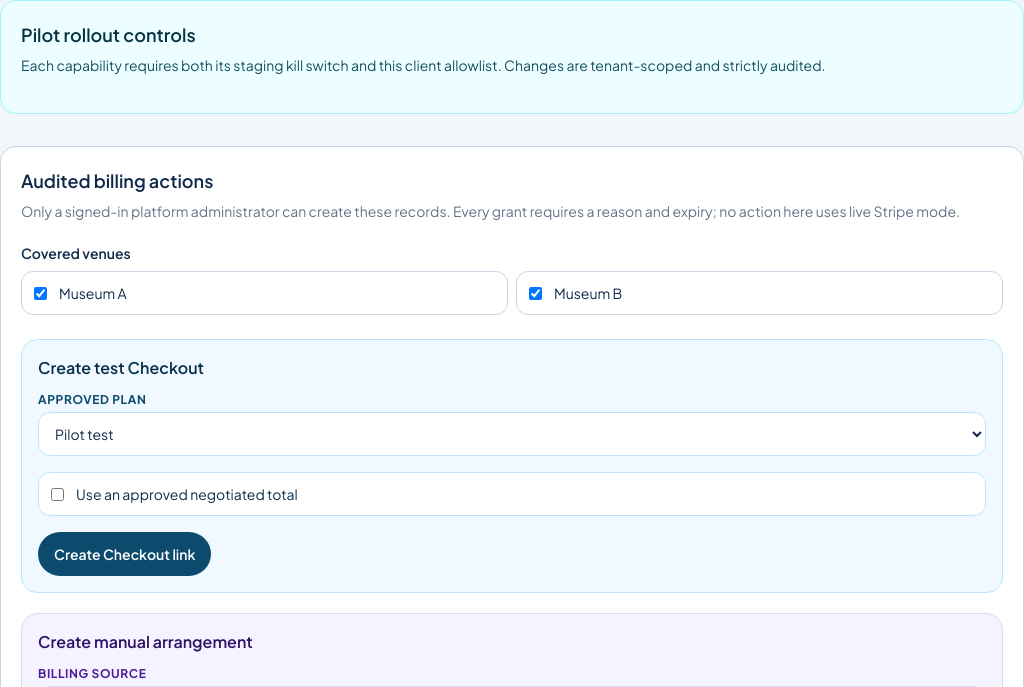
AdminBillingControls negotiated Checkout › keeps a multi-venue quote disabled until every component reconciles to the total
Step 1. Click the checkbox labelled "Use an approved negotiated total" → (58, 494), box [51,488,64,500]
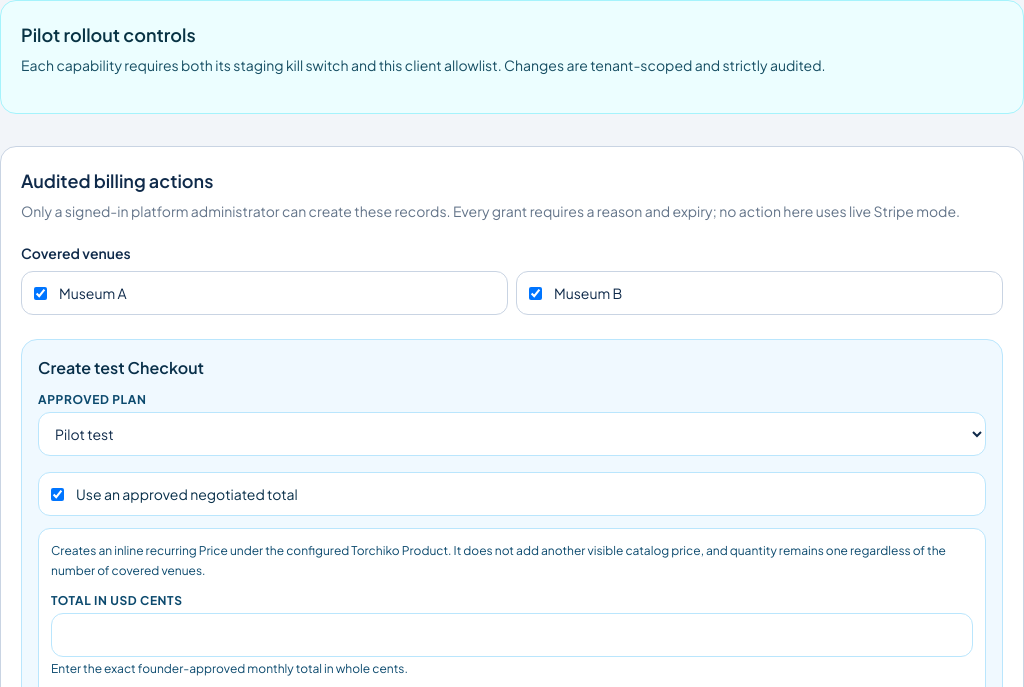
Step 2. Type "5000" into the field labelled "Total in USD cents" → (512, 635), box [51,613,973,657]
(page scrolled)
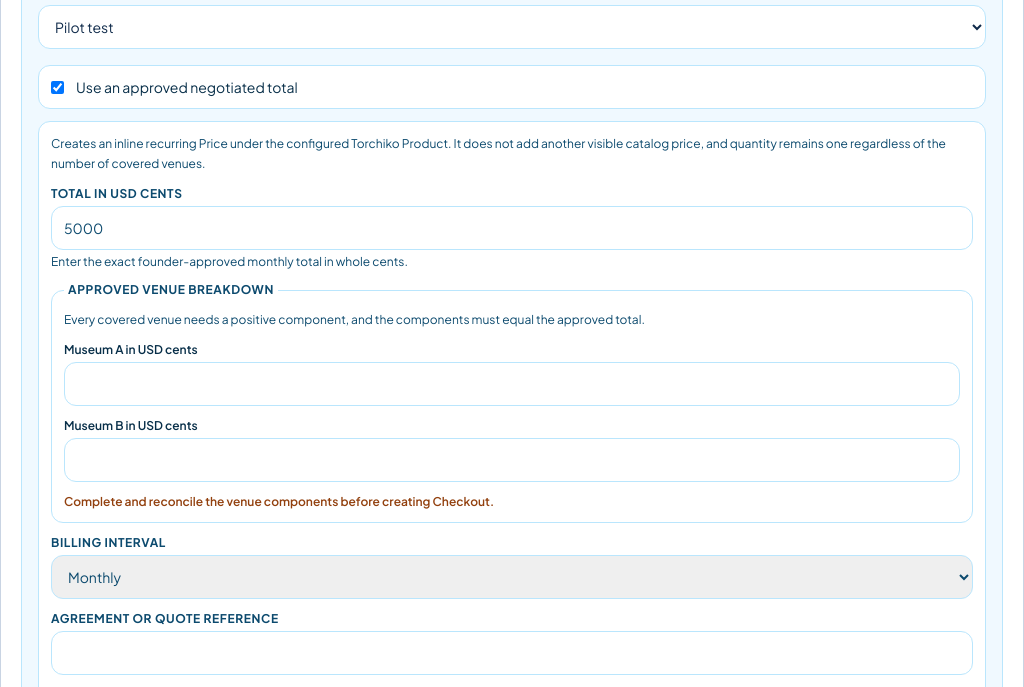
Step 3. Type "3000" into the field named "Museum A negotiated amount in USD cents" → (512, 384), box [64,362,960,406]
Step 4. Type "1999" into the field named "Museum B negotiated amount in USD cents" → (512, 460), box [64,438,960,482]
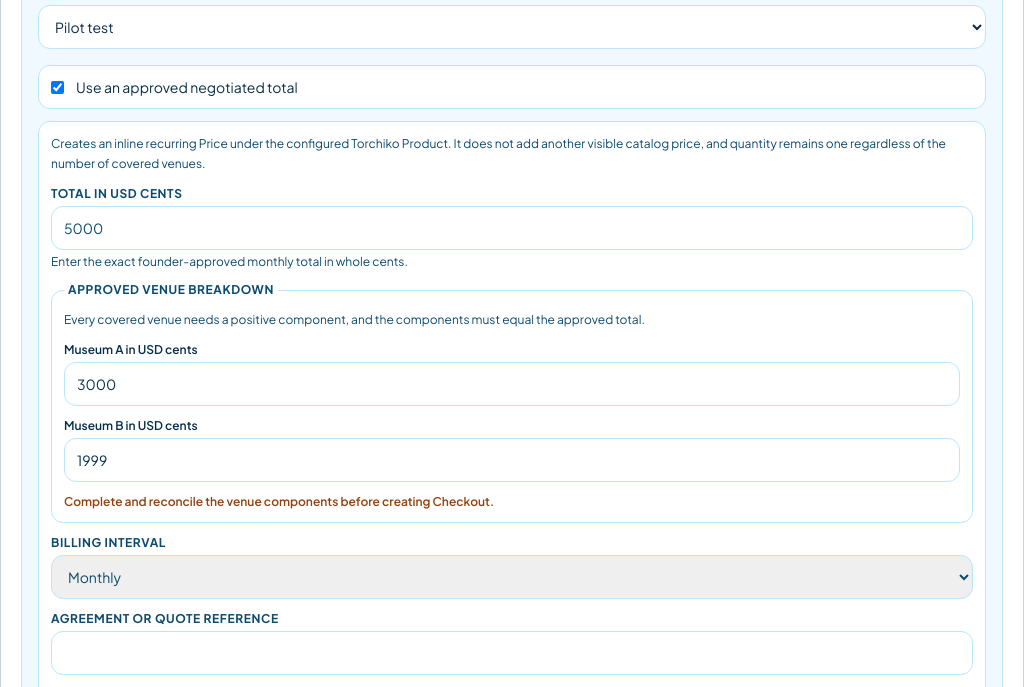
Step 5. Type "QUOTE-MULTI" into the field labelled "Agreement or quote reference" → (512, 653), box [51,631,973,675]
(page scrolled)
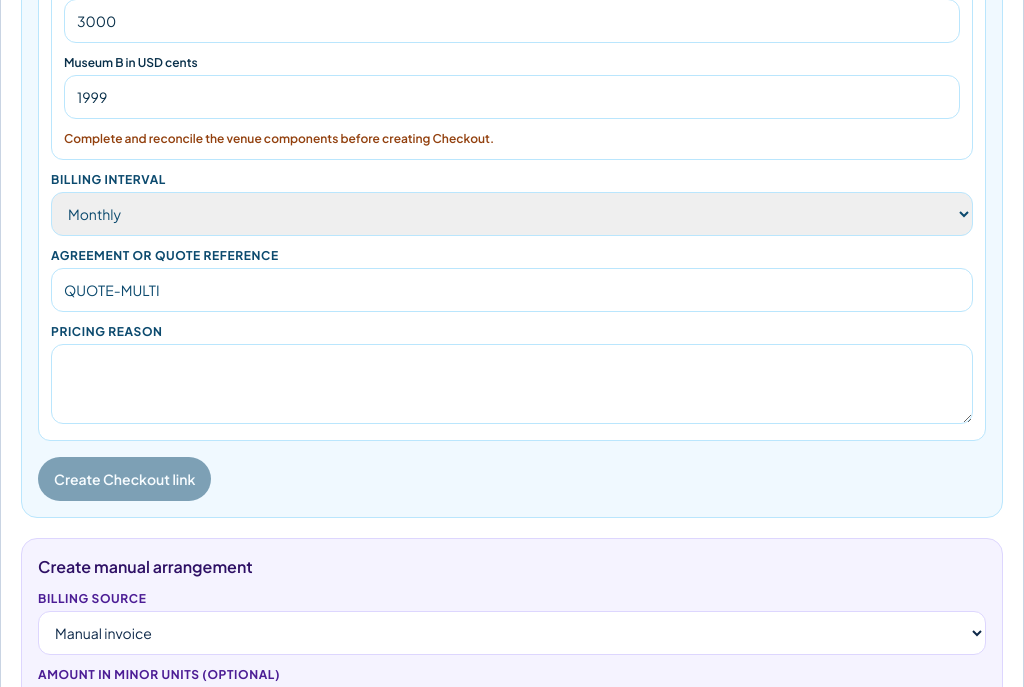
Step 6. Type "Founder-approved multi-venue quote" into the text box labelled "Pricing reason" → (512, 384), box [51,344,973,424]
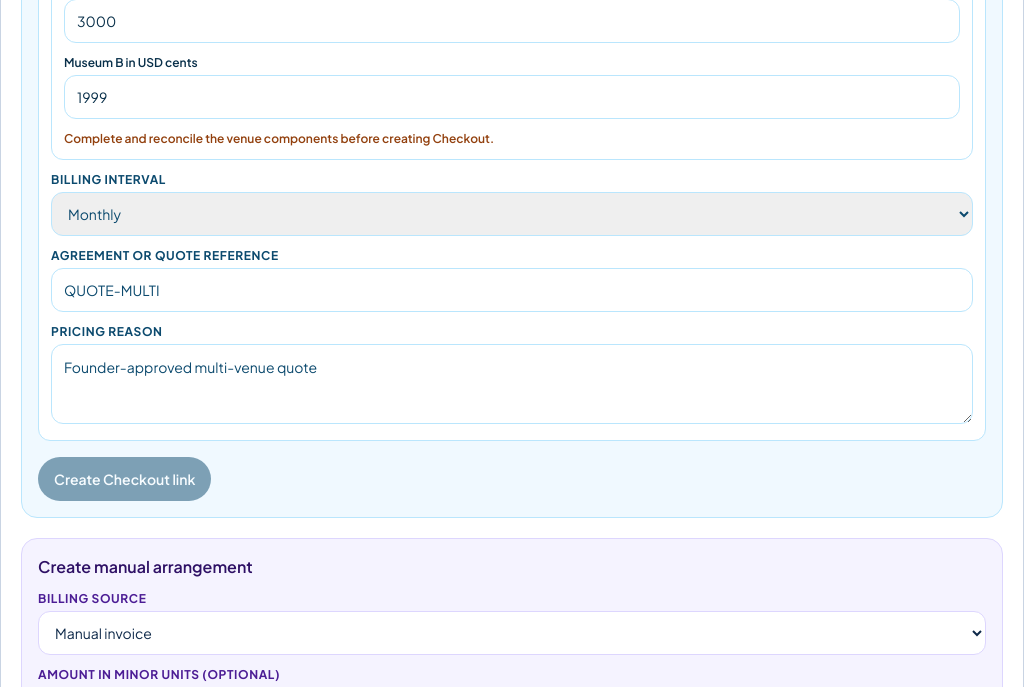
expect the button "Create Checkout link" is disabled: met, box [38,457,211,501]
Step 7. Replace the text in the field named "Museum B negotiated amount in USD cents" with "2000" → (512, 97), box [64,75,960,119]
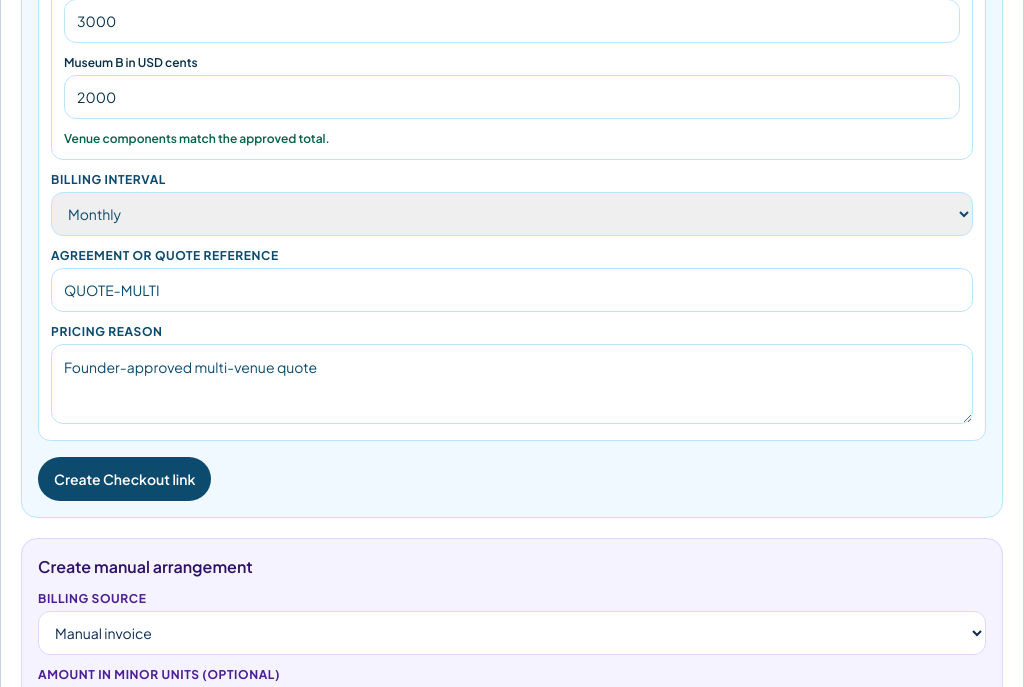
expect the text "Venue components match the approved total." is shown: met, box [64,131,330,146]
expect the button "Create Checkout link" is enabled: met, box [38,457,211,501]
